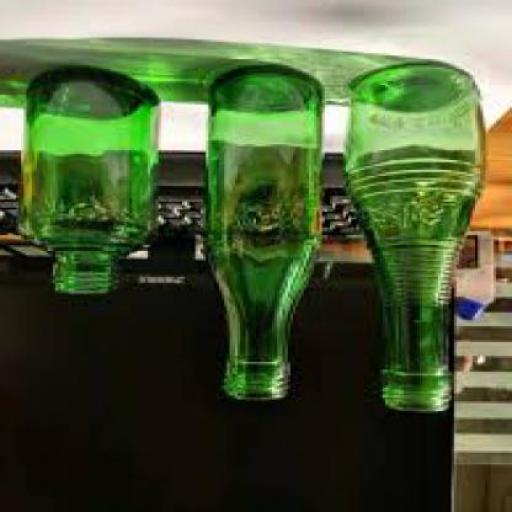glass: (350, 65, 488, 415), (206, 63, 327, 403), (29, 67, 161, 299)
